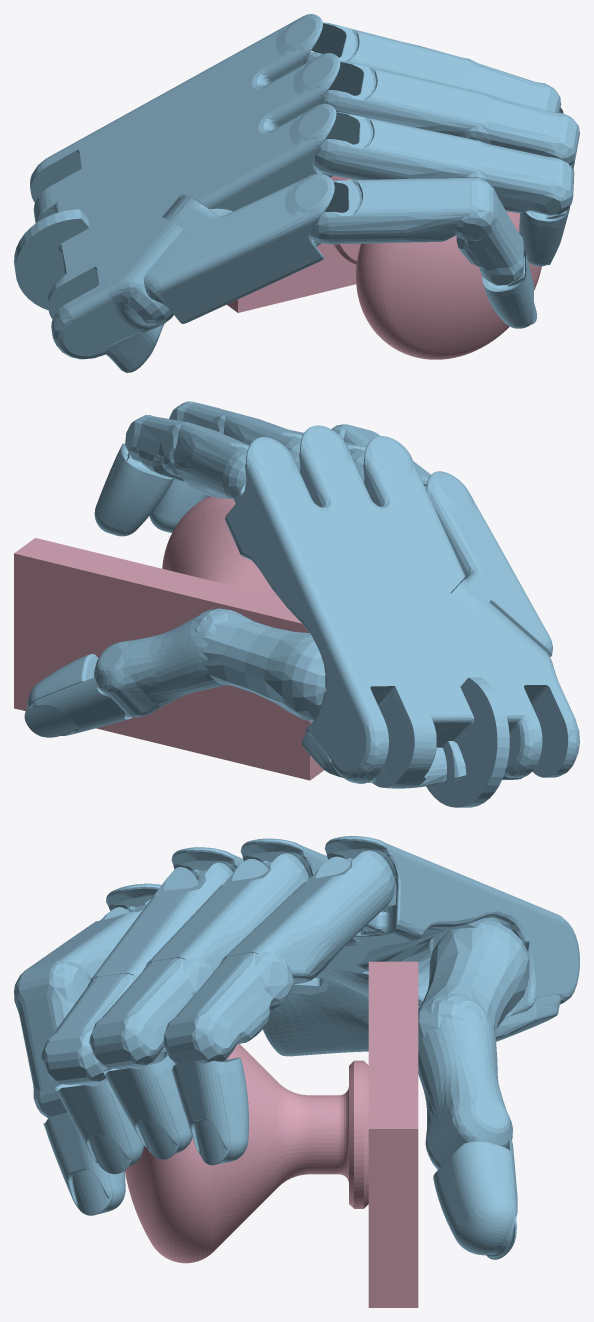
The picture shows the model from 3 angles, top to bottom: view 1: azimuth 30°, elevation 25°; view 2: azimuth 150°, elevation 25°; view 3: azimuth 270°, elevation 25°; orthographic projection. The views are drawn at different scales.
Visible parts, largest first — view 1: world; view 2: world; view 3: world.
Boxes of the visible parts, left/top/right/bottom form: world: left=14, top=14, right=579, bottom=372; world: left=14, top=401, right=579, bottom=807; world: left=14, top=836, right=579, bottom=1307.
Size of the model in its own units: 0.1753 by 0.105 by 0.1432.
